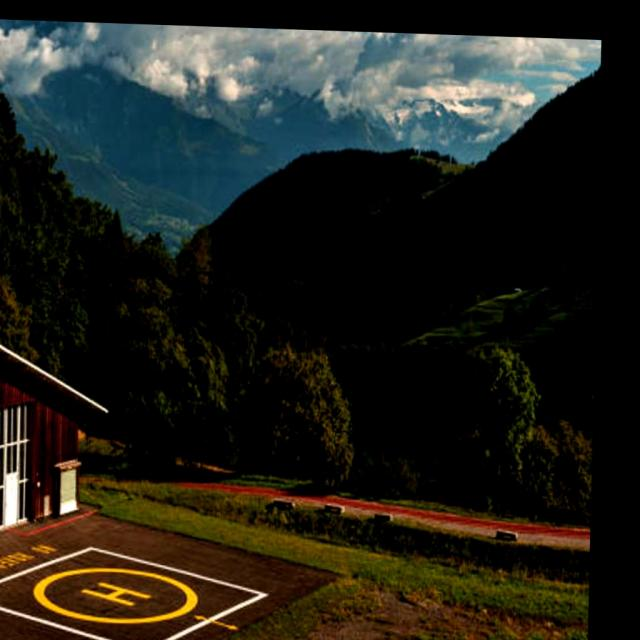helipad: (28, 562, 200, 627)
